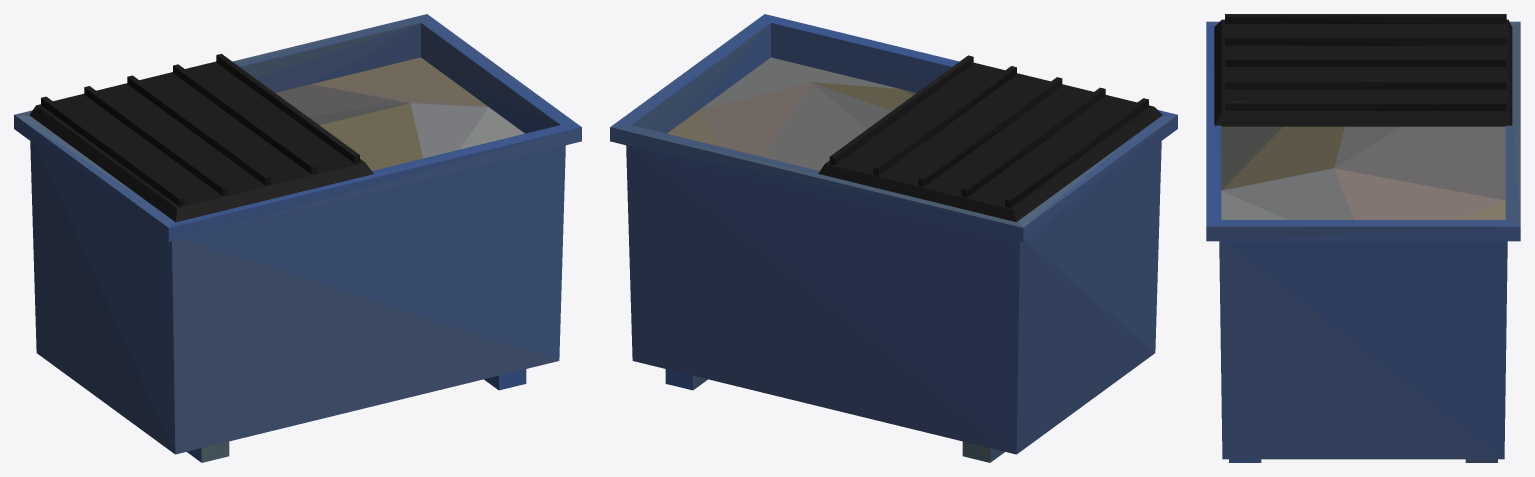
The model's file is gs_dumpster.glb.
3 renders of one model, left to right at view 1: azimuth 30°, elevation 25°; view 2: azimuth 150°, elevation 25°; view 3: azimuth 270°, elevation 25°, orthographic.
Visible parts, largest first — view 1: Dumpster, Dumpster_T; view 2: Dumpster, Dumpster_T; view 3: Dumpster, Dumpster_T.
Boxes of the visible parts, bbox=[...] form: Dumpster: bbox=[14, 14, 581, 462]; Dumpster_T: bbox=[29, 54, 373, 222]; Dumpster: bbox=[610, 14, 1177, 462]; Dumpster_T: bbox=[818, 55, 1162, 221]; Dumpster: bbox=[1206, 21, 1520, 462]; Dumpster_T: bbox=[1214, 14, 1512, 126].
Bounding box in the file's own units: 1.96 × 1.23 × 1.27.
